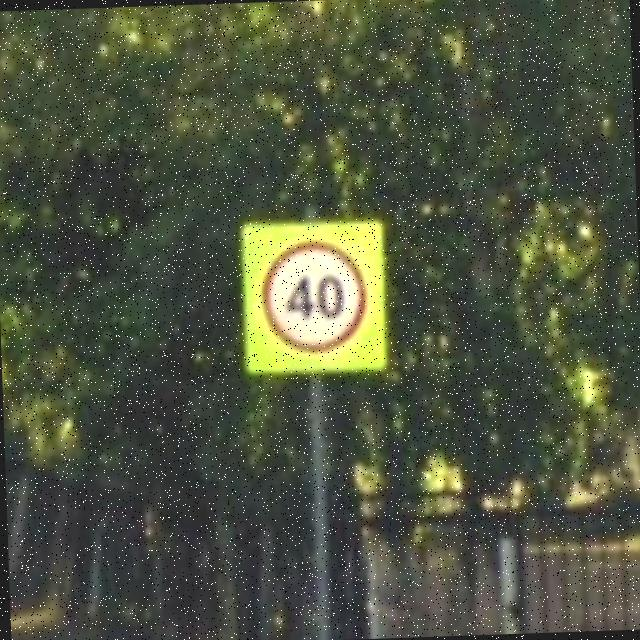Ograniczenie predkosci do 40: (258, 234, 370, 354)
